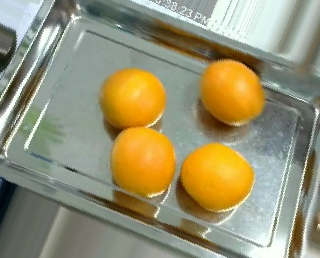Orange: (179, 141, 255, 213), (108, 126, 175, 198), (200, 57, 266, 125), (98, 67, 166, 131)
